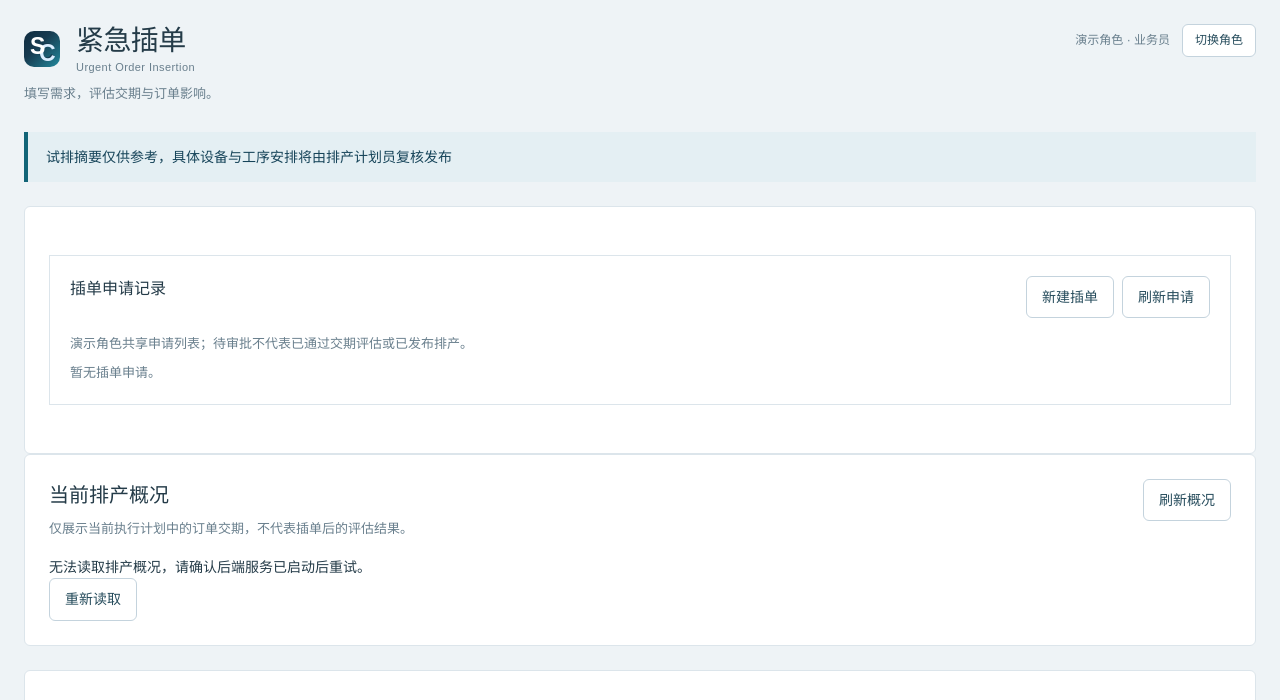
Test: sales page framework (URG-02 / DISC-02) › shows a recoverable load error instead of fabricated plan data
Check: the message "无法读取排产概况，请确认后端服务已启动后重试。 重新读取" is shown, box [49,559,371,621]
Step 1. Click the button "重新读取" → (93, 599), box [49,578,137,620]
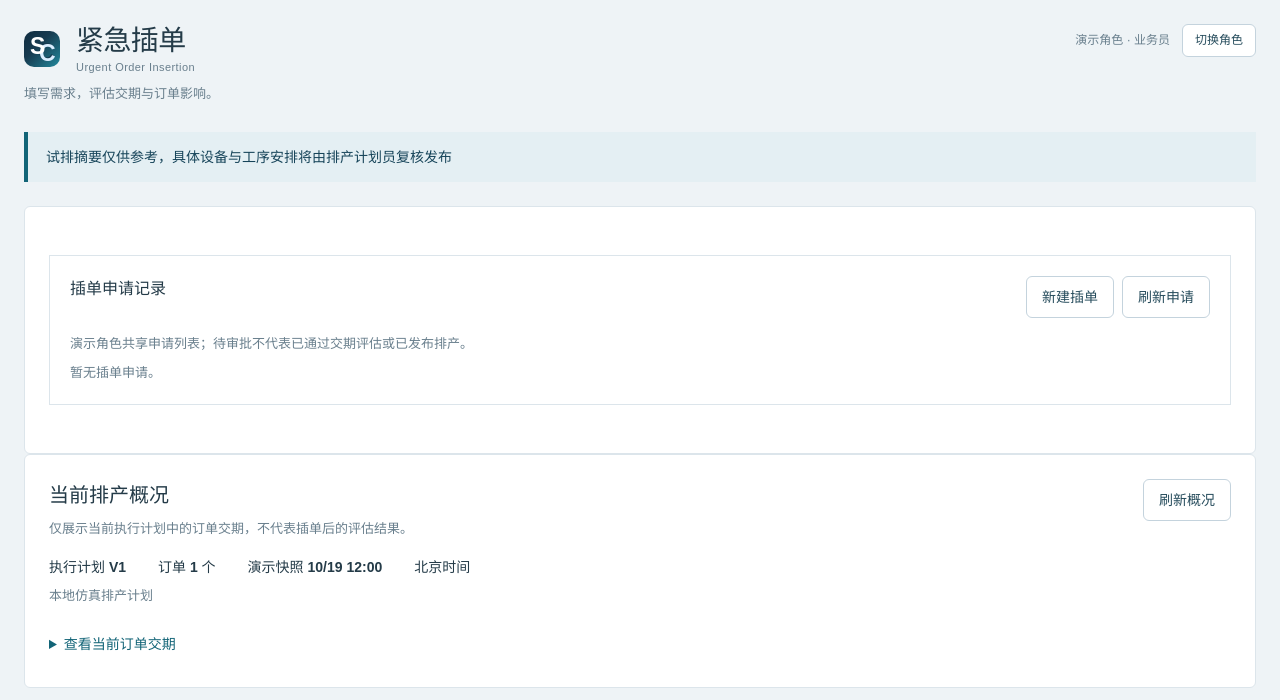
Check: the text "本地仿真排产计划" is shown, box [49,588,153,603]
